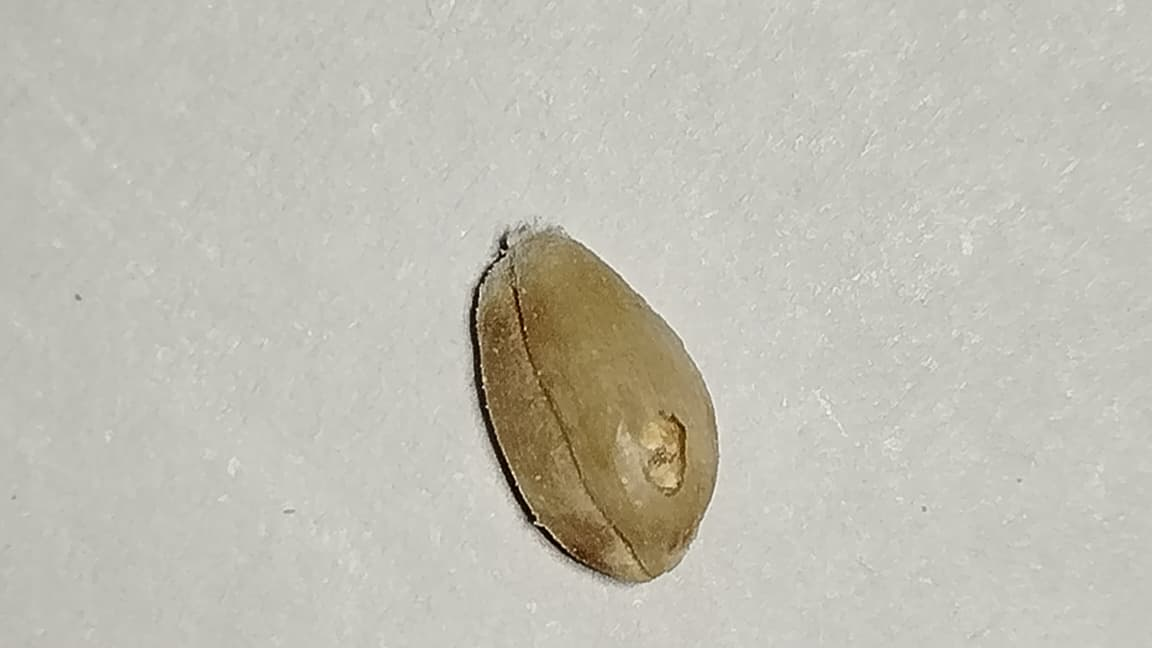damage: (468, 218, 718, 580)
insectdamage: (638, 401, 696, 495)
molddamage: (496, 216, 585, 260)
staindamage: (541, 493, 633, 574), (464, 300, 540, 380)
